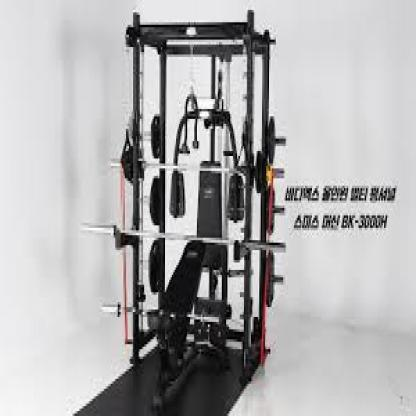smith machine: (108, 10, 286, 403)
